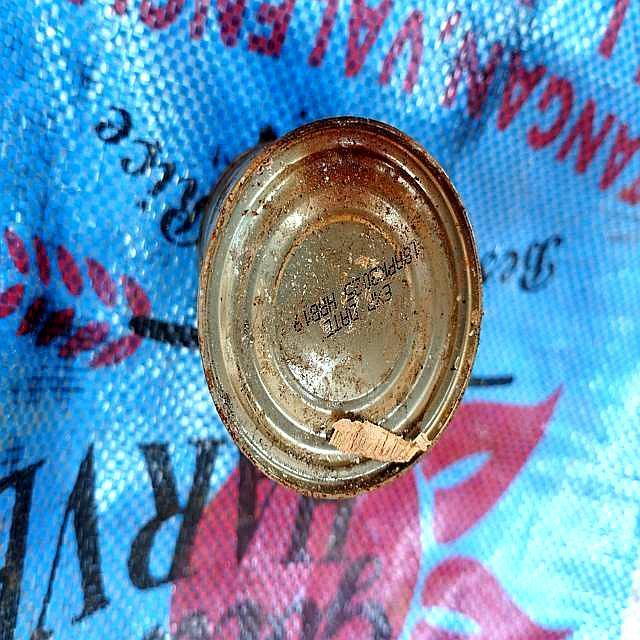Non-biodegradable: (198, 115, 485, 505)
